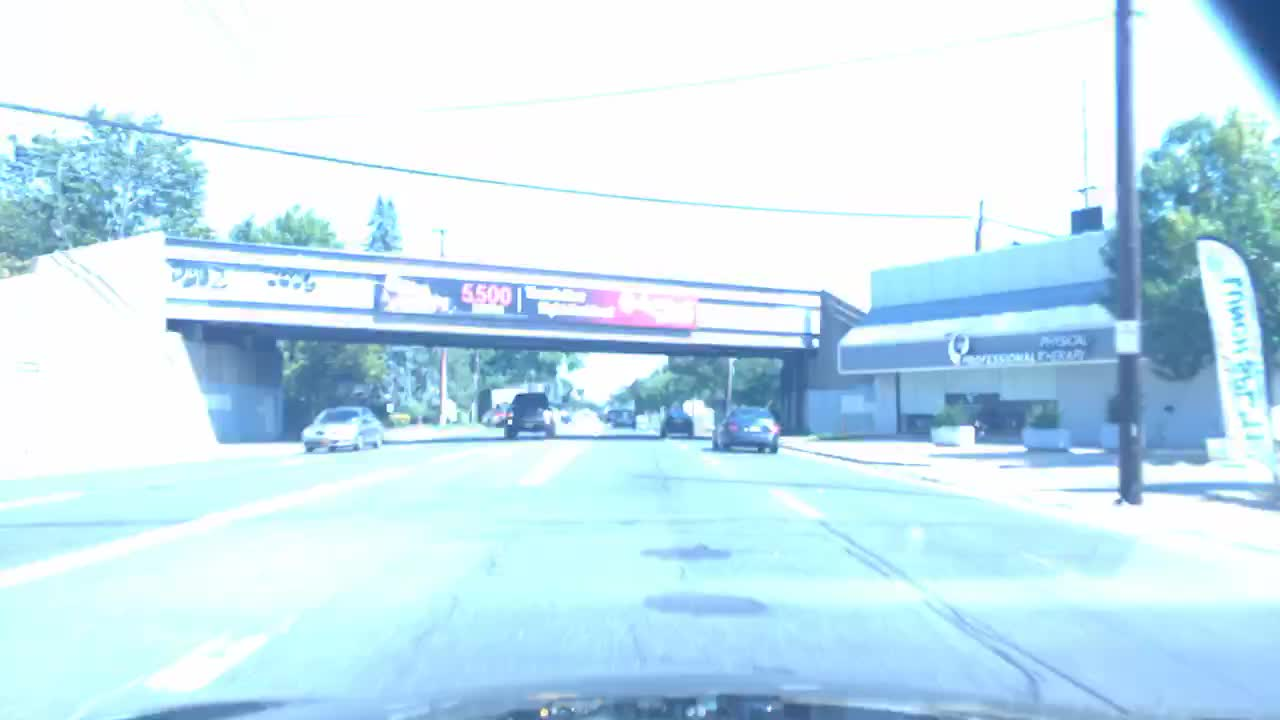car: (301, 405, 385, 449), (712, 406, 781, 452), (503, 391, 557, 436), (659, 412, 694, 438), (615, 409, 637, 427), (492, 408, 508, 427), (560, 413, 572, 424)
traffic sign: (1071, 206, 1102, 233), (1115, 320, 1138, 353)
